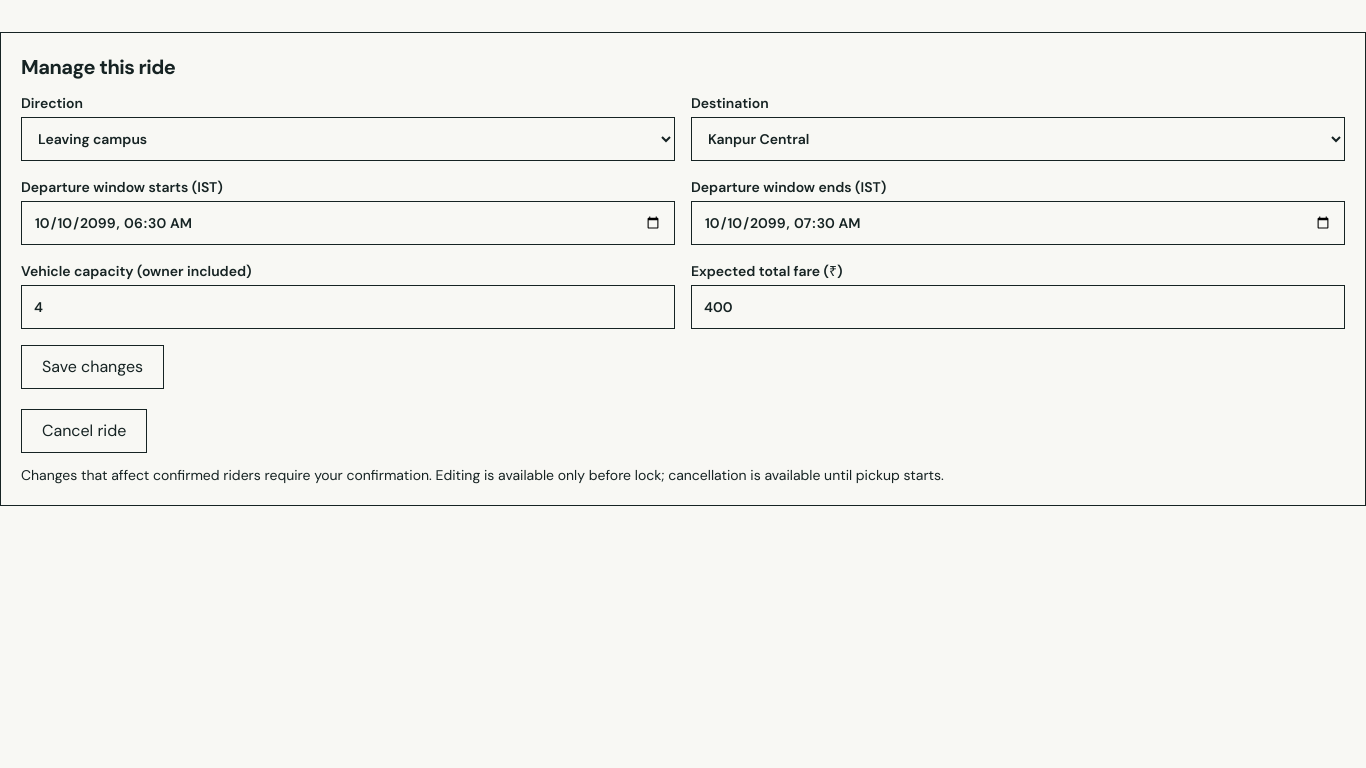
Test: RideManagementControls › requires confirmation for an edit affecting riders and saves after confirmation
The image size is (1366, 768).
Step 1. Submit the form named "Expected total fare (₹)", box [21, 93, 1345, 389]
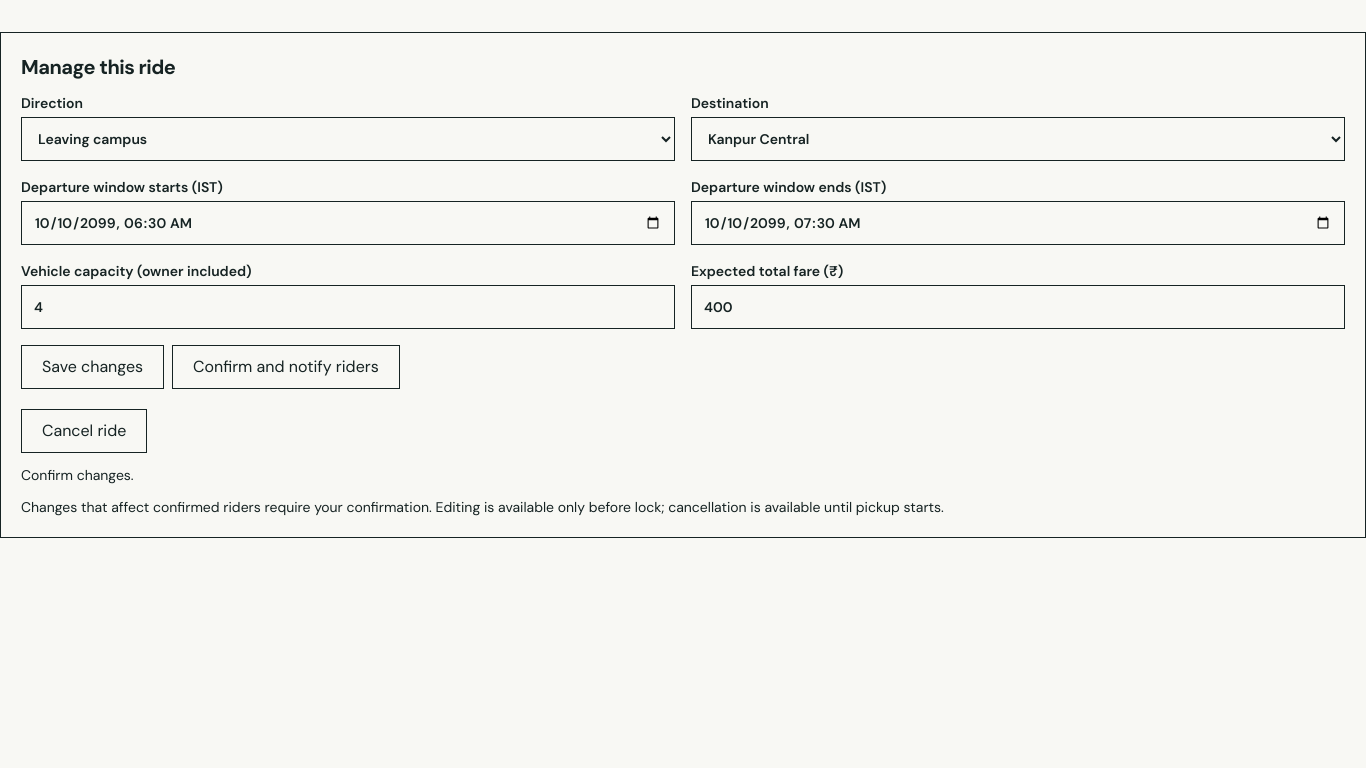
Now the button "Confirm and notify riders" is shown
Step 2. Click the button "Confirm and notify riders" → point(286, 367), box [172, 345, 400, 389]
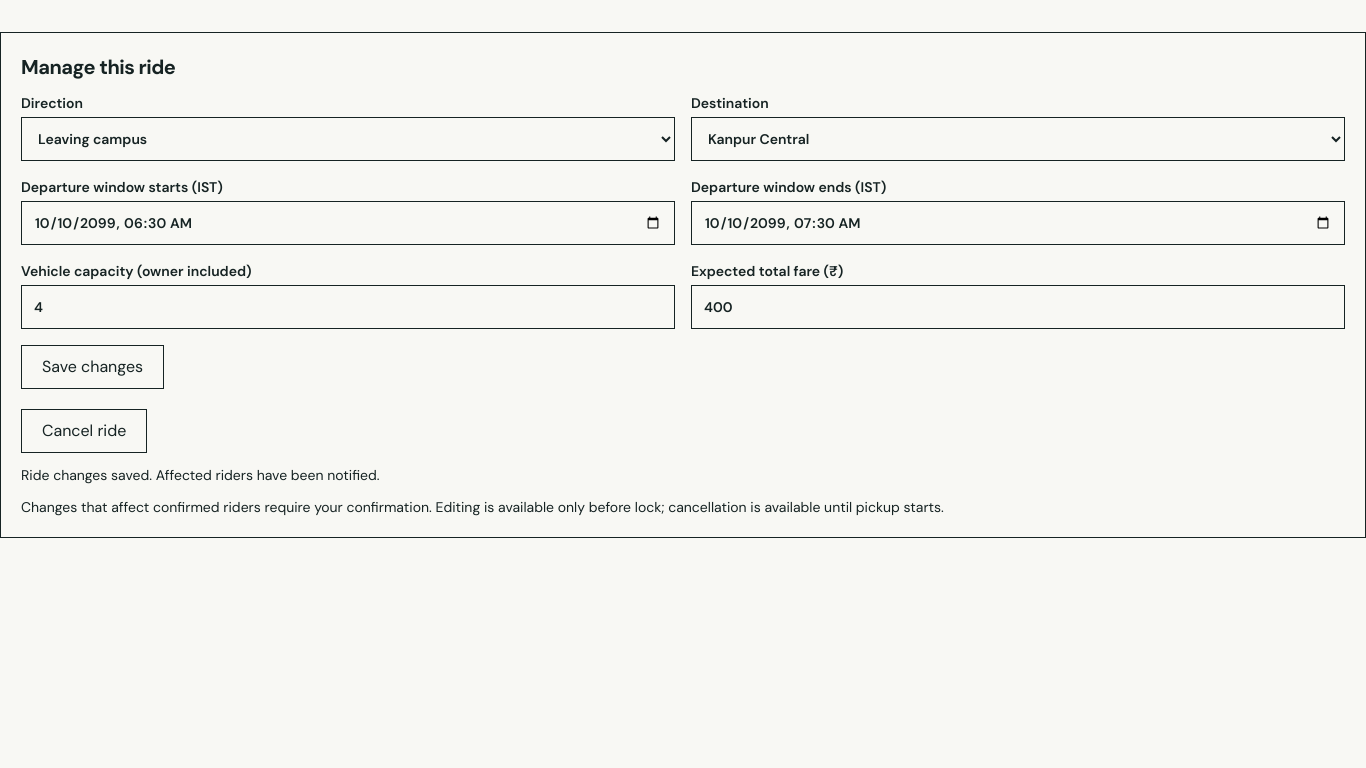
Now the message "Ride changes saved. Affected riders have been notified." is shown, box [21, 466, 380, 484]
